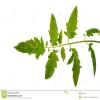Tomato leaf: (13, 34, 46, 64), (41, 47, 61, 85), (67, 45, 83, 90), (62, 3, 80, 42), (49, 8, 60, 48)
